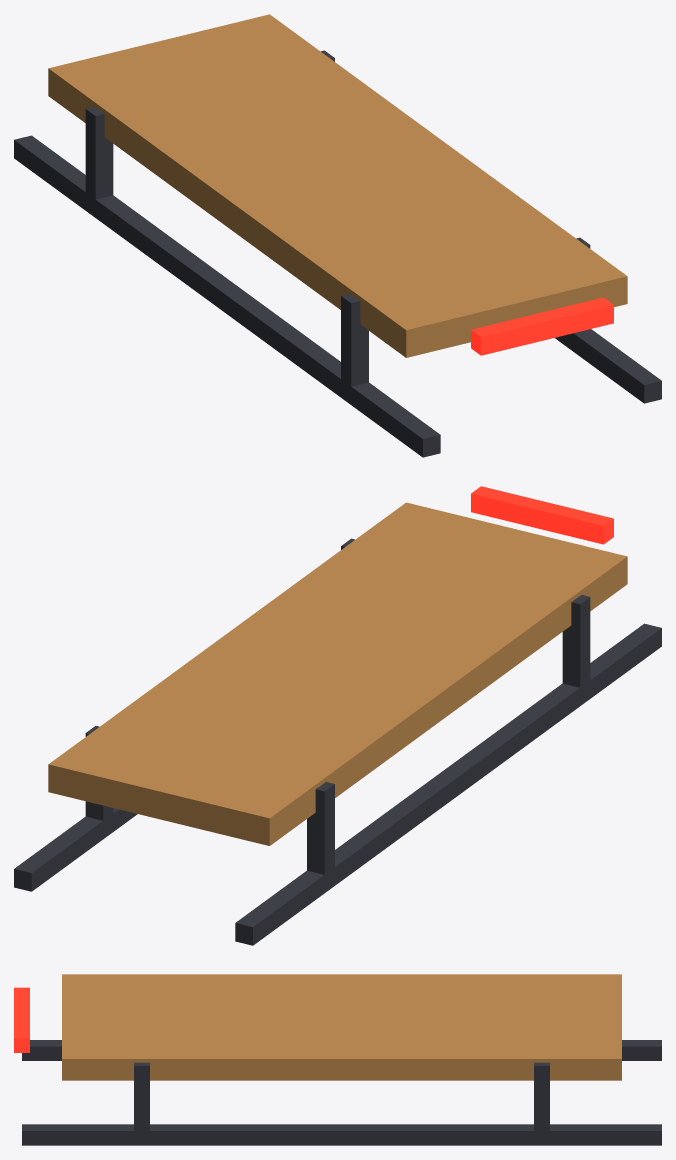
Rendered from sled.glb.
The picture shows the model from 3 angles, top to bottom: view 1: azimuth 30°, elevation 25°; view 2: azimuth 150°, elevation 25°; view 3: azimuth 270°, elevation 25°; orthographic projection. The views are drawn at different scales.
Parts seen in each view (by area): view 1: sled; view 2: sled; view 3: sled.
Part boxes in pixels (x1=…): sled: x1=14, y1=14, x2=661, y2=457; sled: x1=14, y1=486, x2=661, y2=945; sled: x1=14, y1=974, x2=661, y2=1145.
Size of the model in its own units: 0.54 by 0.24 by 1.62.
